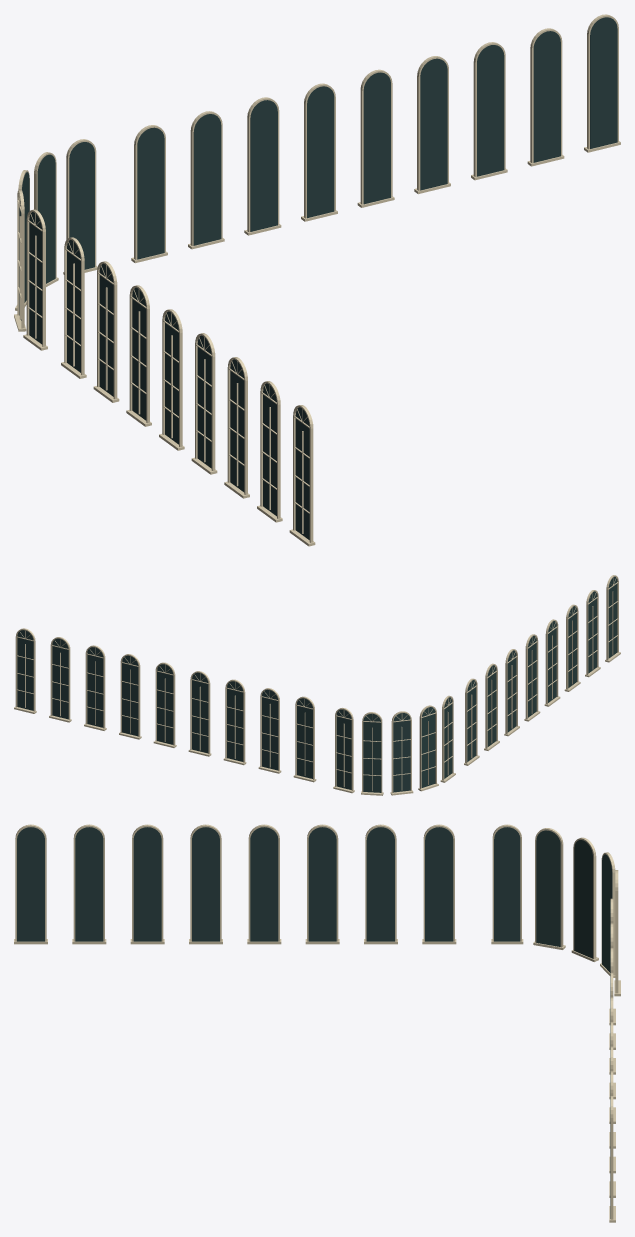
File: KOL_T1_GPO__04_Recesses.fbx
3 renders of one model, top to bottom at view 1: azimuth 30°, elevation 25°; view 2: azimuth 150°, elevation 25°; view 3: azimuth 270°, elevation 25°, orthographic. The views are drawn at different scales.
Parts seen in each view (by area): view 1: KOL_T1_GPO__04_Recesses__KOL_T1_HeritageGlass, KOL_T1_GPO__04_Recesses__KOL_T1_HeritageCream; view 2: KOL_T1_GPO__04_Recesses__KOL_T1_HeritageGlass, KOL_T1_GPO__04_Recesses__KOL_T1_HeritageCream; view 3: KOL_T1_GPO__04_Recesses__KOL_T1_HeritageGlass, KOL_T1_GPO__04_Recesses__KOL_T1_HeritageCream.
Boxes of the visible parts, x1=… form: KOL_T1_GPO__04_Recesses__KOL_T1_HeritageGlass: x1=19, y1=17, x2=617, y2=539; KOL_T1_GPO__04_Recesses__KOL_T1_HeritageCream: x1=14, y1=14, x2=620, y2=546; KOL_T1_GPO__04_Recesses__KOL_T1_HeritageGlass: x1=17, y1=576, x2=617, y2=792; KOL_T1_GPO__04_Recesses__KOL_T1_HeritageCream: x1=14, y1=575, x2=620, y2=795; KOL_T1_GPO__04_Recesses__KOL_T1_HeritageGlass: x1=17, y1=827, x2=612, y2=1218; KOL_T1_GPO__04_Recesses__KOL_T1_HeritageCream: x1=14, y1=824, x2=620, y2=1222.
Bounding box in the file's own units: 137 × 26.79 × 125.
